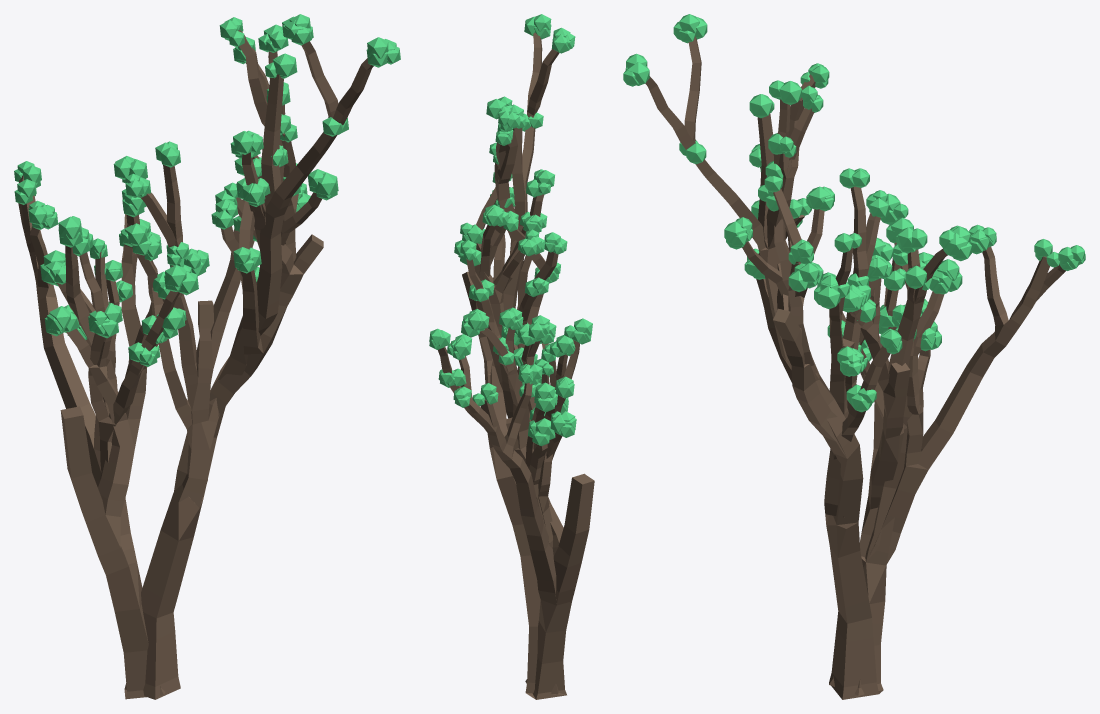
3 renders of one model, left to right at view 1: azimuth 30°, elevation 25°; view 2: azimuth 150°, elevation 25°; view 3: azimuth 270°, elevation 25°, orthographic. The views are drawn at different scales.
Visible parts, largest first — view 1: Arbusto; view 2: Arbusto; view 3: Arbusto.
Part boxes in pixels (box(x1,y1,x2,y2)): Arbusto: box(18, 30, 373, 699); Arbusto: box(438, 32, 594, 699); Arbusto: box(645, 36, 1065, 699).
Bounding box in the file's own units: 1.36 × 4.47 × 2.64.
